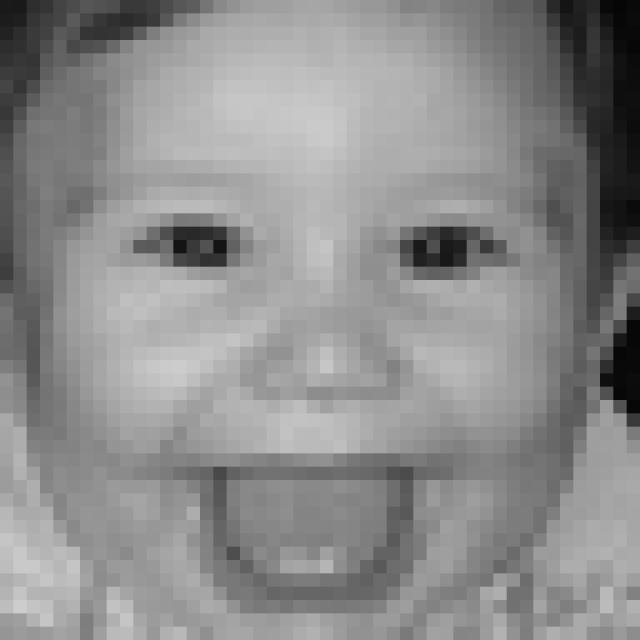happy: (62, 146, 570, 625)
